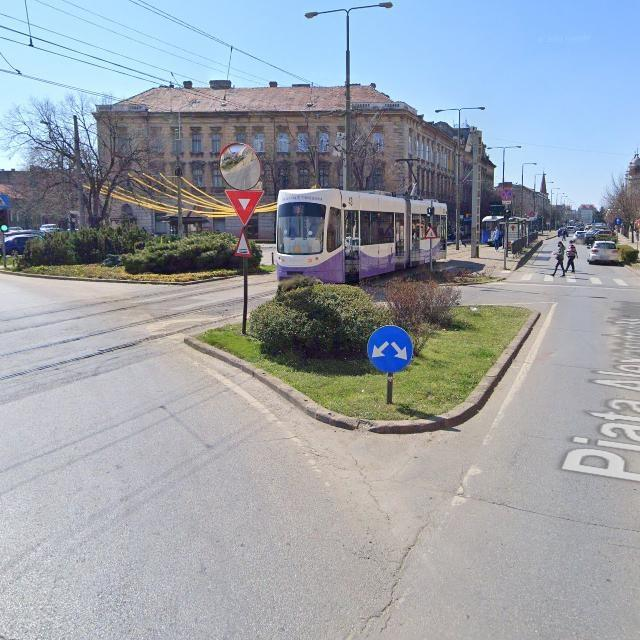forb_waiting: (500, 188, 513, 201)
prio_give_way: (224, 189, 265, 228)
